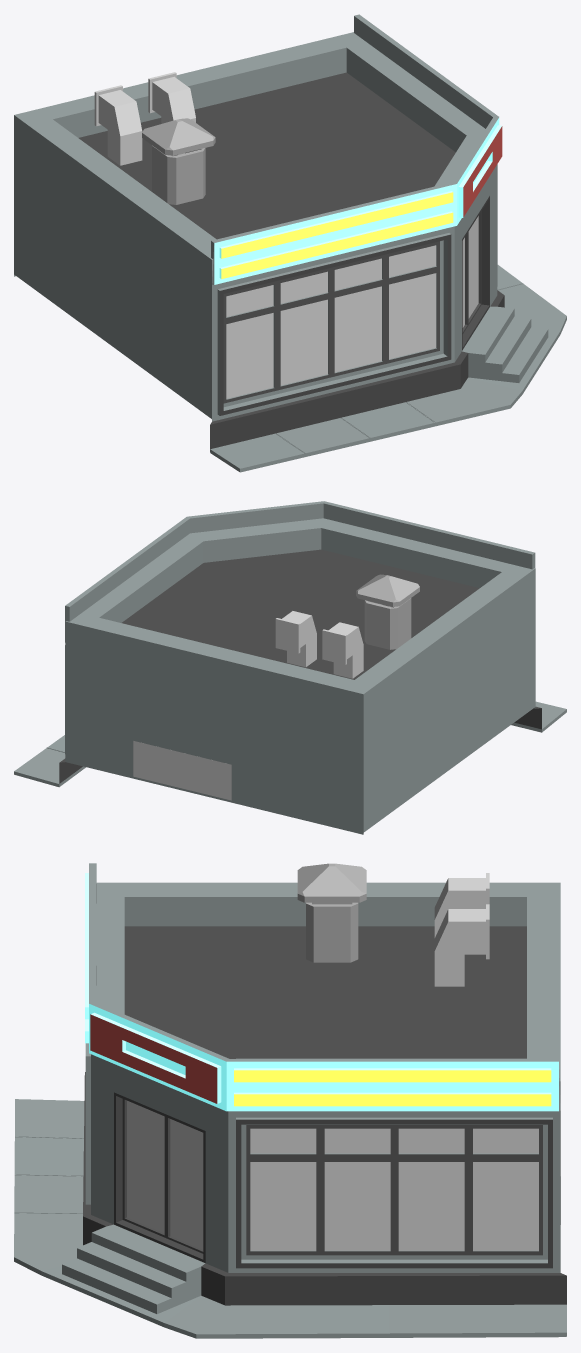
Rendered from Shop.fbx.
3 renders of one model, top to bottom at view 1: azimuth 30°, elevation 25°; view 2: azimuth 150°, elevation 25°; view 3: azimuth 270°, elevation 25°, orthographic. The views are drawn at different scales.
Parts seen in each view (by area): view 1: building, chimney, ventilator1, ventilator2; view 2: building, freezer, chimney, ventilator1, ventilator2; view 3: building, chimney, ventilator2, ventilator1.
Part boxes in pixels (x1=…): building: x1=14, y1=14, x2=566, y2=472; chimney: x1=142, y1=118, x2=215, y2=204; ventilator1: x1=94, y1=85, x2=142, y2=165; ventilator2: x1=148, y1=72, x2=195, y2=123; building: x1=14, y1=501, x2=566, y2=834; freezer: x1=133, y1=741, x2=231, y2=800; chimney: x1=356, y1=574, x2=419, y2=649; ventilator1: x1=322, y1=622, x2=363, y2=678; ventilator2: x1=275, y1=611, x2=316, y2=667; building: x1=14, y1=863, x2=566, y2=1338; chimney: x1=297, y1=863, x2=366, y2=962; ventilator2: x1=434, y1=904, x2=489, y2=986; ventilator1: x1=434, y1=873, x2=489, y2=937.
Bounding box in the file's own units: 618 × 349 × 617.
